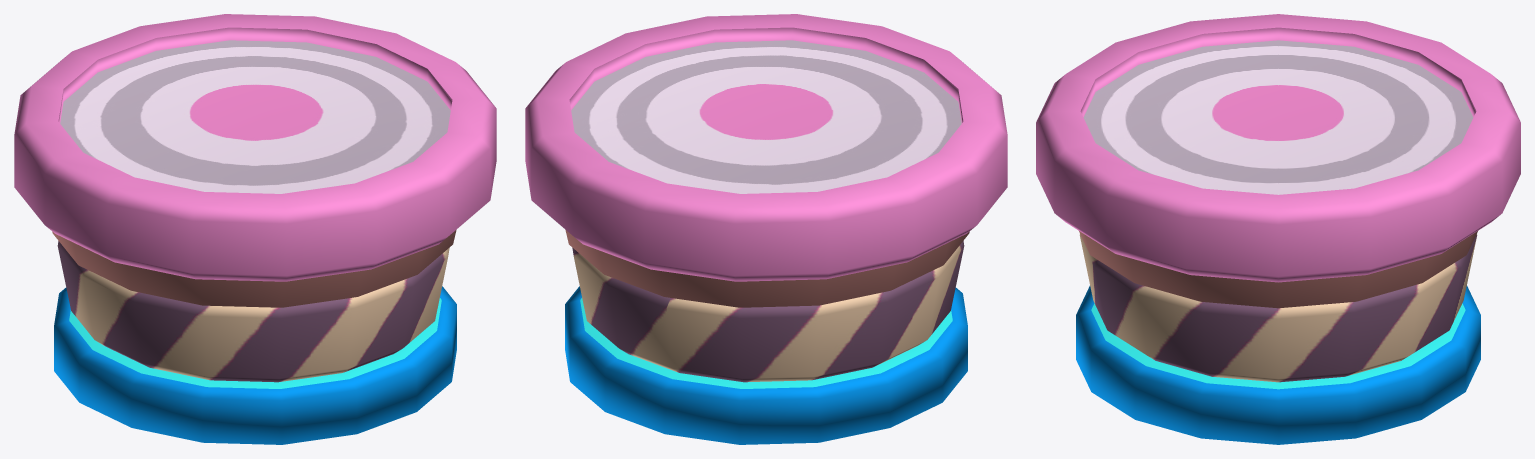
File: OBS0110026.fbx
3 renders of one model, left to right at view 1: azimuth 30°, elevation 25°; view 2: azimuth 150°, elevation 25°; view 3: azimuth 270°, elevation 25°, orthographic.
Visible parts, largest first — view 1: smOBS0110026; view 2: smOBS0110026; view 3: smOBS0110026.
Part boxes in pixels (x1,y1,x2,y2): smOBS0110026: (14,14,496,444); smOBS0110026: (525,14,1007,444); smOBS0110026: (1036,14,1520,444).
Bounding box in the file's own units: 288 × 165 × 288.
Materials: 1 (1 with a texture image).
